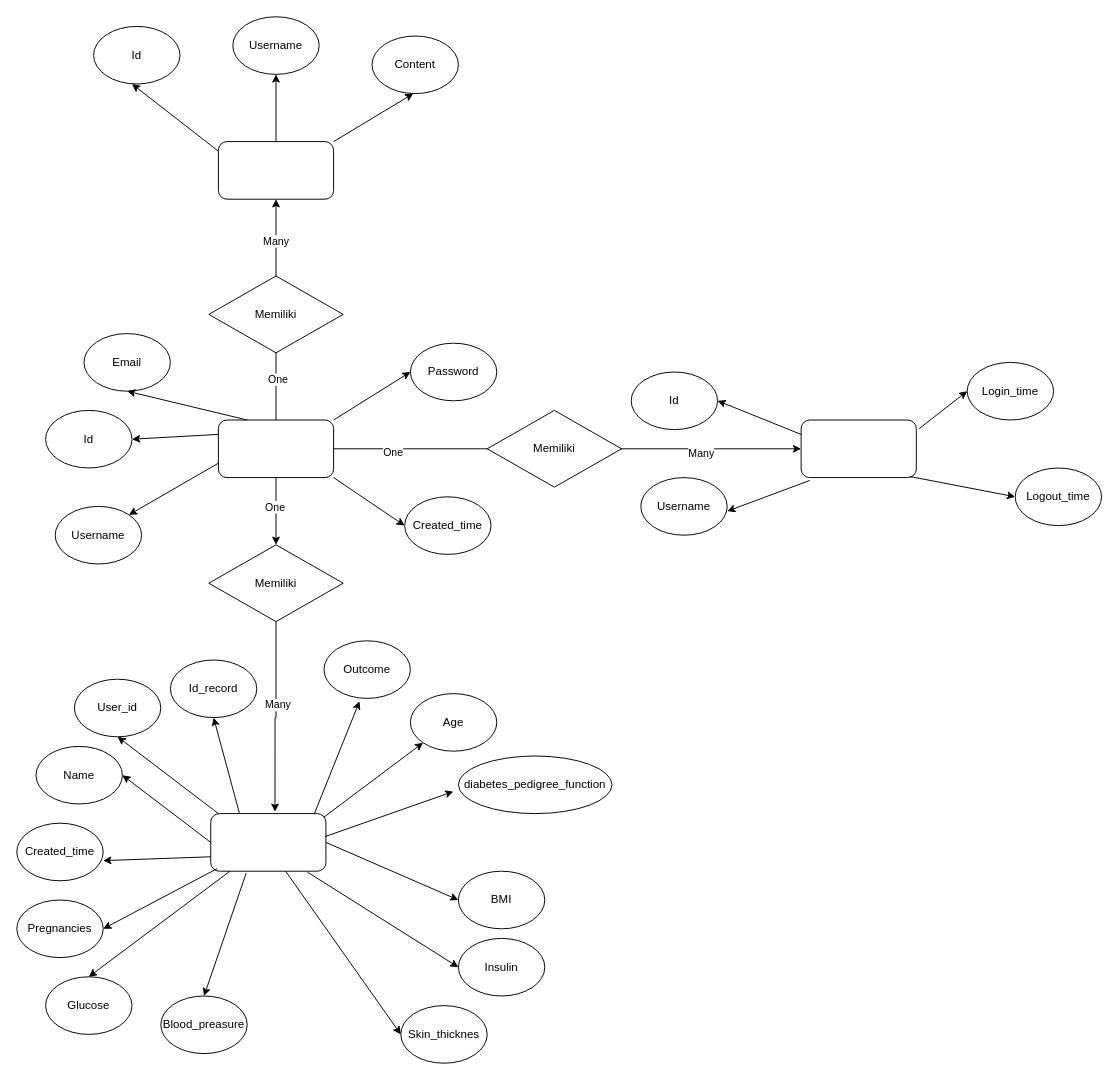
Some shapes in this 1118 by 1080 pixel diagram are drawn without their labels. Each missing label, with the box of its shape:
Feedback: (217, 141, 334, 199)
Record: (210, 813, 326, 871)
User: (217, 419, 334, 478)
User_sessions: (800, 419, 916, 478)
